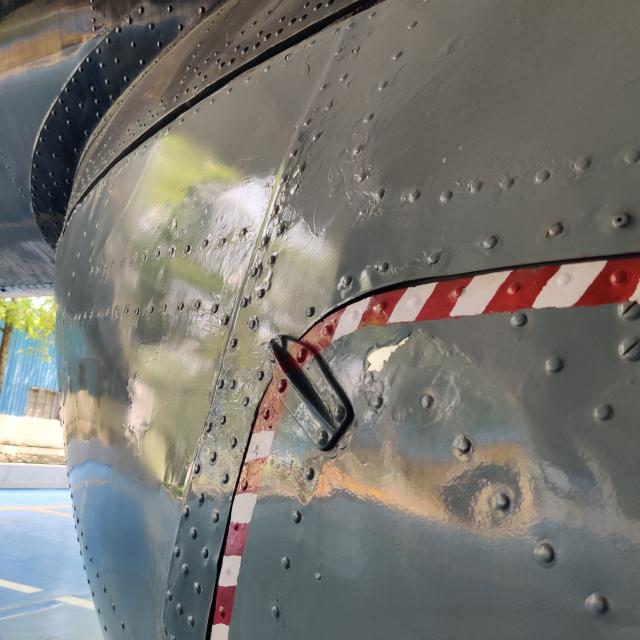paint-off: (356, 321, 424, 380)
